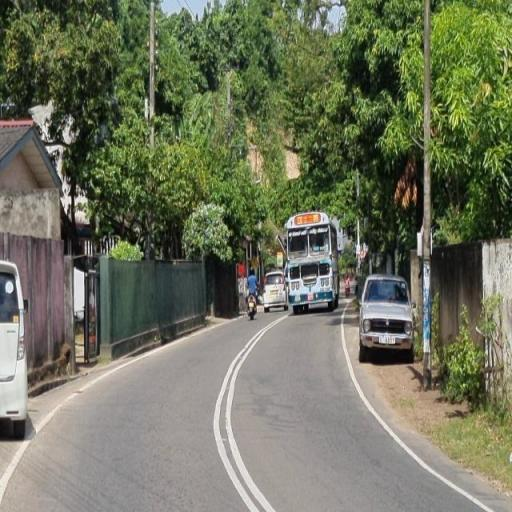double_white_line: (338, 319, 495, 511), (213, 311, 277, 512)
